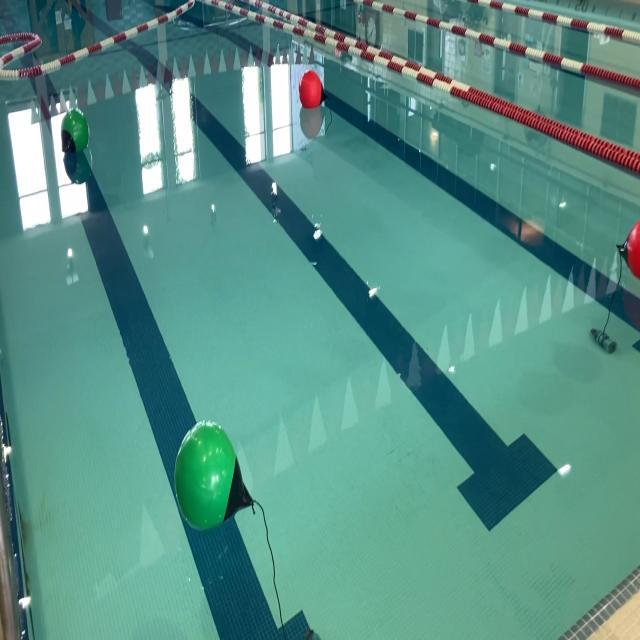buoy: (170, 418, 256, 534), (60, 106, 90, 158), (296, 68, 331, 111), (617, 218, 640, 280)
